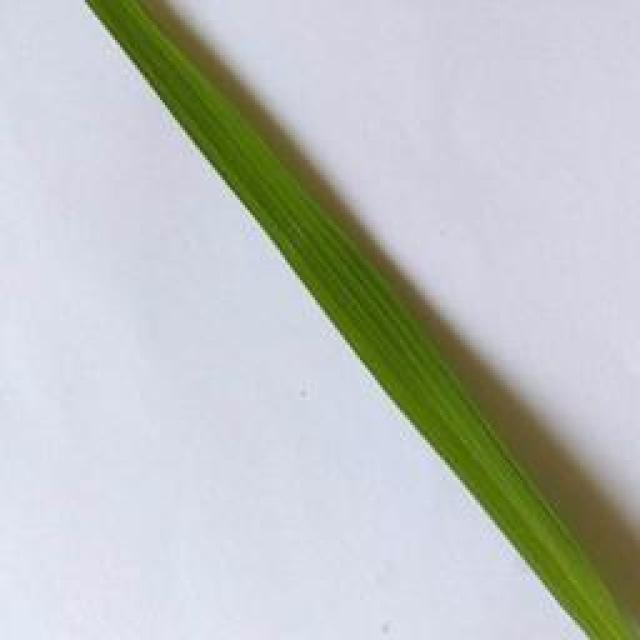Healthy-Plant: (82, 0, 640, 640)
